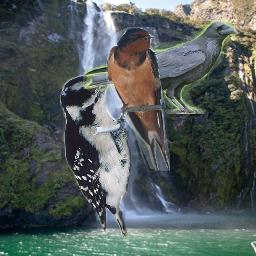Crow: (83, 21, 238, 114)
Swallow: (106, 27, 170, 171)
Woodpecker: (60, 71, 135, 242)
